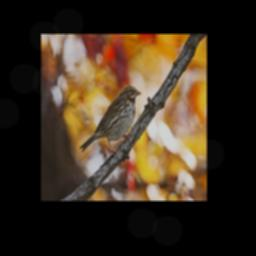Sparrow: (80, 85, 142, 157)
